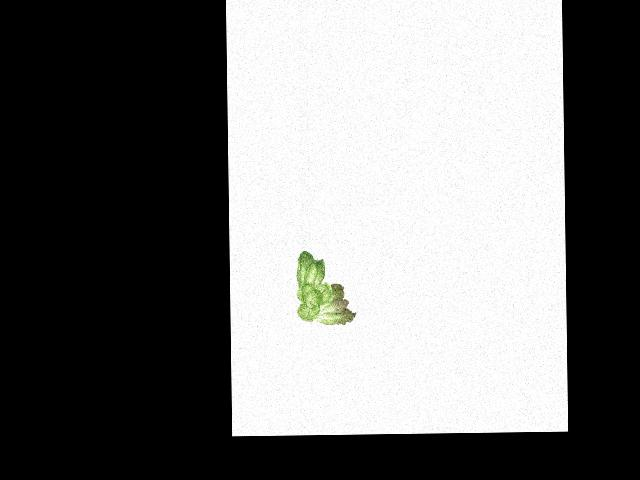lettuce: (292, 249, 360, 326)
